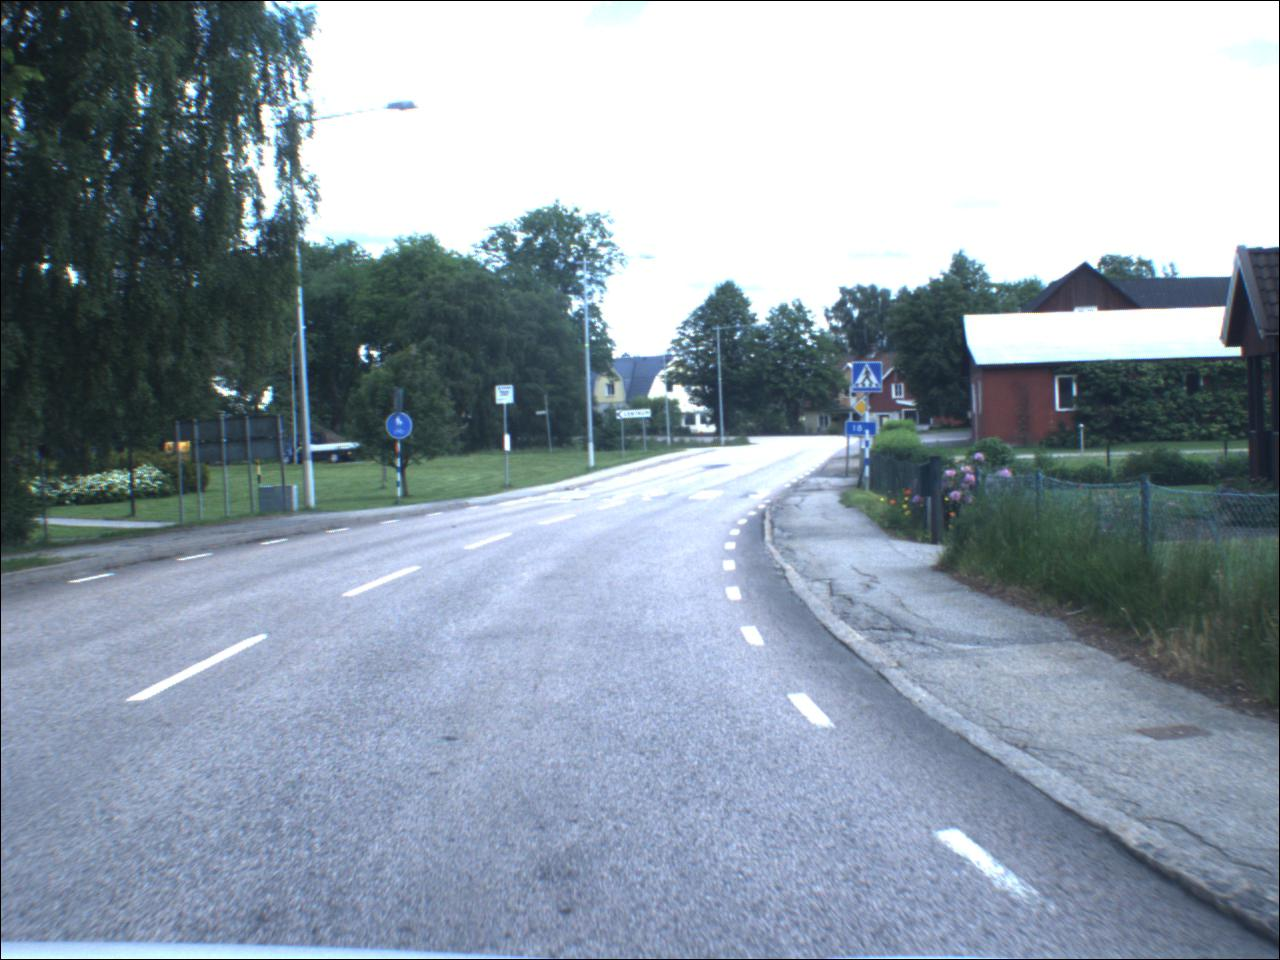PEDESTRIAN_CROSSING: (854, 364, 887, 396)
PRIORITY_ROAD: (855, 399, 874, 418)
